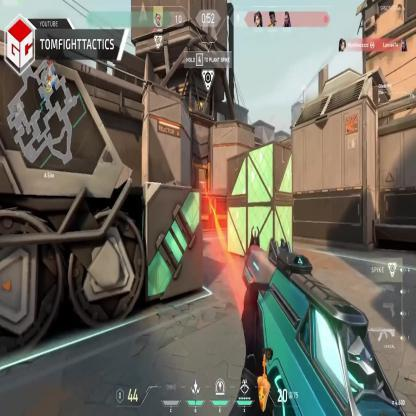enemy: (201, 182, 205, 192)
enemy_head: (202, 182, 204, 186)
